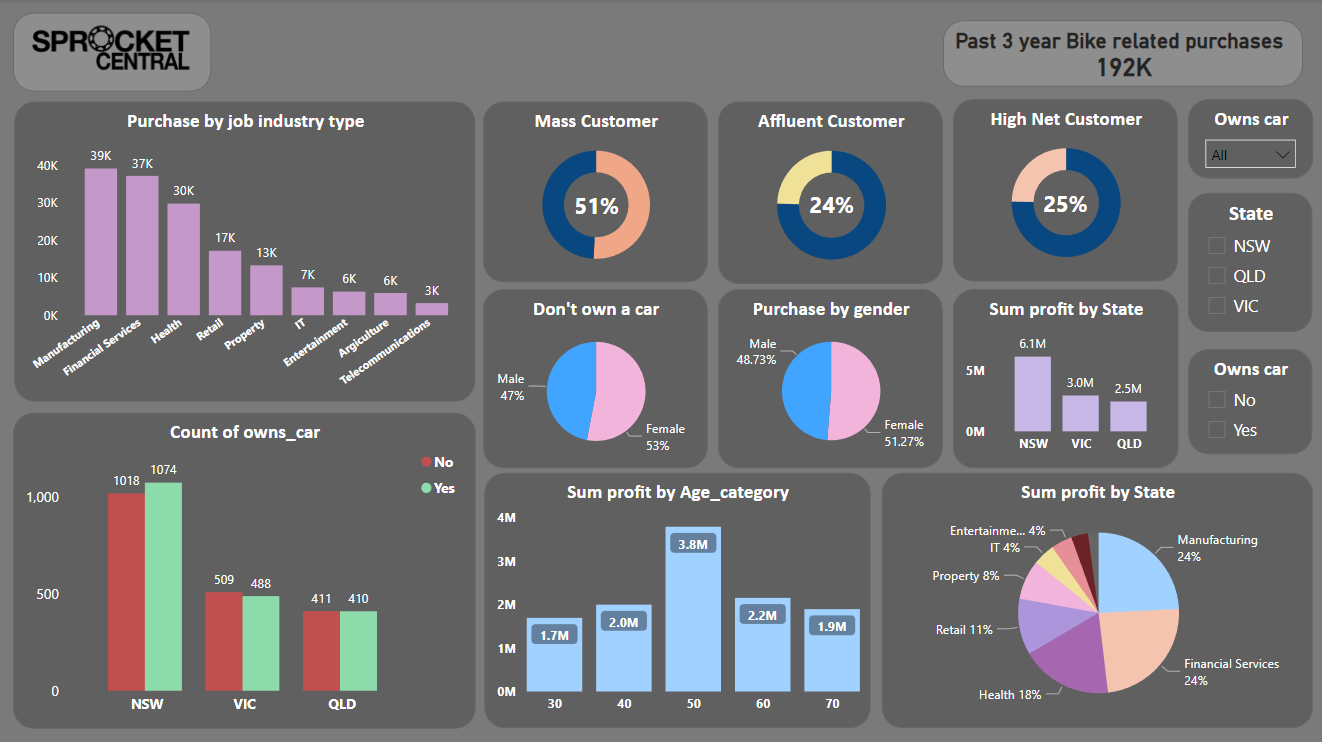

What the dashboard file says about the page in this screenshot:
{"tool":"powerbi","page":{"name":"Page 1","canvas":[1280,720],"ordinal":0},"visuals":[{"type":"image","box":[14.3,12.9,191.4,75.7],"z":0},{"type":"card","title":"Past 3 year Bike related purchases","fields":{"Values":["Sum(Sheet1.past_3_years_bike_related_purchases)"]},"box":[911.4,20,347.1,64.3],"z":1000},{"type":"pieChart","fields":{"Y":["Sum(Sheet1.past_3_years_bike_related_purchases)"],"Category":["Sheet1.gender"]},"box":[694.4,279.4,216.9,172.5],"z":2000},{"type":"donutChart","title":"Mass Customer","fields":{"Y":["Sum(Sheet1.past_3_years_bike_related_purchases)"],"Category":["Sheet1.mass"]},"box":[468.5,99.2,216.9,174.6],"z":3000},{"type":"donutChart","title":"Affluent Customer","fields":{"Y":["Sum(Sheet1.past_3_years_bike_related_purchases)"],"Category":["Sheet1.Affluent"]},"box":[694.3,98.6,217.1,175.7],"z":4000},{"type":"donutChart","title":"High Net Customer","fields":{"Y":["Sum(Sheet1.past_3_years_bike_related_purchases)"],"Category":["Sheet1.High net"]},"box":[921.5,96.9,216.9,176.2],"z":5000},{"type":"clusteredColumnChart","title":"Purchase by job industry type","fields":{"Category":["Sheet1.job_industry_category"],"Y":["Sum(Sheet1.past_3_years_bike_related_purchases)"]},"box":[15.7,98.9,445,289.4],"z":6000},{"type":"pieChart","title":"Don''t own a car","fields":{"Y":["CountNonNull(Sheet1.owns_car)"],"Category":["Sheet1.gender"]},"box":[468.1,279.4,216.9,173.1],"z":7000},{"type":"slicer","title":"State","fields":{"Values":["Sheet1.State"]},"box":[1148.6,187.1,120,134.3],"z":8000},{"type":"textbox","box":[778,179,63,39],"z":9000},{"type":"textbox","box":[1003.8,177.7,66.2,40.8],"z":10000},{"type":"textbox","box":[550.8,180,61.5,38.5],"z":11000},{"type":"clusteredColumnChart","title":"Count of owns_car","fields":{"Category":["Sheet1.State"],"Y":["CountNonNull(Sheet1.owns_car)"],"Series":["Sheet1.owns_car"]},"box":[14.5,399.2,446.2,305.1],"z":12000},{"type":"columnChart","title":"Sum profit by State","fields":{"Category":["Sheet1.State"],"Y":["Sum(Sheet1.Monetary)"]},"box":[921.2,280,217.5,172.5],"z":13000},{"type":"lineStackedColumnComboChart","title":"Sum profit by Age_category","fields":{"Category":["Sheet1.Age_category"],"Y":["Sum(Sheet1.Monetary)"]},"box":[468.8,457.5,372.5,246.2],"z":14000},{"type":"slicer","title":"Owns car","fields":{"Values":["Sheet1.owns_car"]},"box":[1148.6,337.1,120,101.4],"z":15000},{"type":"pieChart","title":"Sum profit by State","fields":{"Category":["Sheet1.job_industry_category"],"Y":["Sum(Sheet1.Monetary)"]},"box":[852.5,457.5,416.2,246.2],"z":16000},{"type":"slicer","title":"Owns car","fields":{"Values":["Sheet1.wealth_segment"]},"box":[1148.1,96.5,120.6,77.2],"z":17000}]}

Visuals, with their boxes in screenshot pixels (x1, y1, x2, y2), scaled from the page's 1280x720 canvas onto the 1322x742 screenshot:
image: box(15, 13, 212, 91)
"Past 3 year Bike related purchases" card: box(941, 21, 1300, 87)
pieChart - Sum(Sheet1.past_3_years_bike_related_purchases) x Sheet1.gender: box(717, 288, 941, 466)
"Mass Customer" donutChart: box(484, 102, 708, 282)
"Affluent Customer" donutChart: box(717, 102, 941, 283)
"High Net Customer" donutChart: box(952, 100, 1176, 281)
"Purchase by job industry type" clusteredColumnChart: box(16, 102, 476, 400)
"Don''t own a car" pieChart: box(483, 288, 707, 466)
"State" slicer: box(1186, 193, 1310, 331)
textbox: box(804, 184, 869, 225)
textbox: box(1037, 183, 1105, 225)
textbox: box(569, 185, 632, 225)
"Count of owns_car" clusteredColumnChart: box(15, 411, 476, 726)
"Sum profit by State" columnChart: box(951, 289, 1176, 466)
"Sum profit by Age_category" lineStackedColumnComboChart: box(484, 471, 869, 725)
"Owns car" slicer: box(1186, 347, 1310, 452)
"Sum profit by State" pieChart: box(880, 471, 1310, 725)
"Owns car" slicer: box(1186, 99, 1310, 179)
